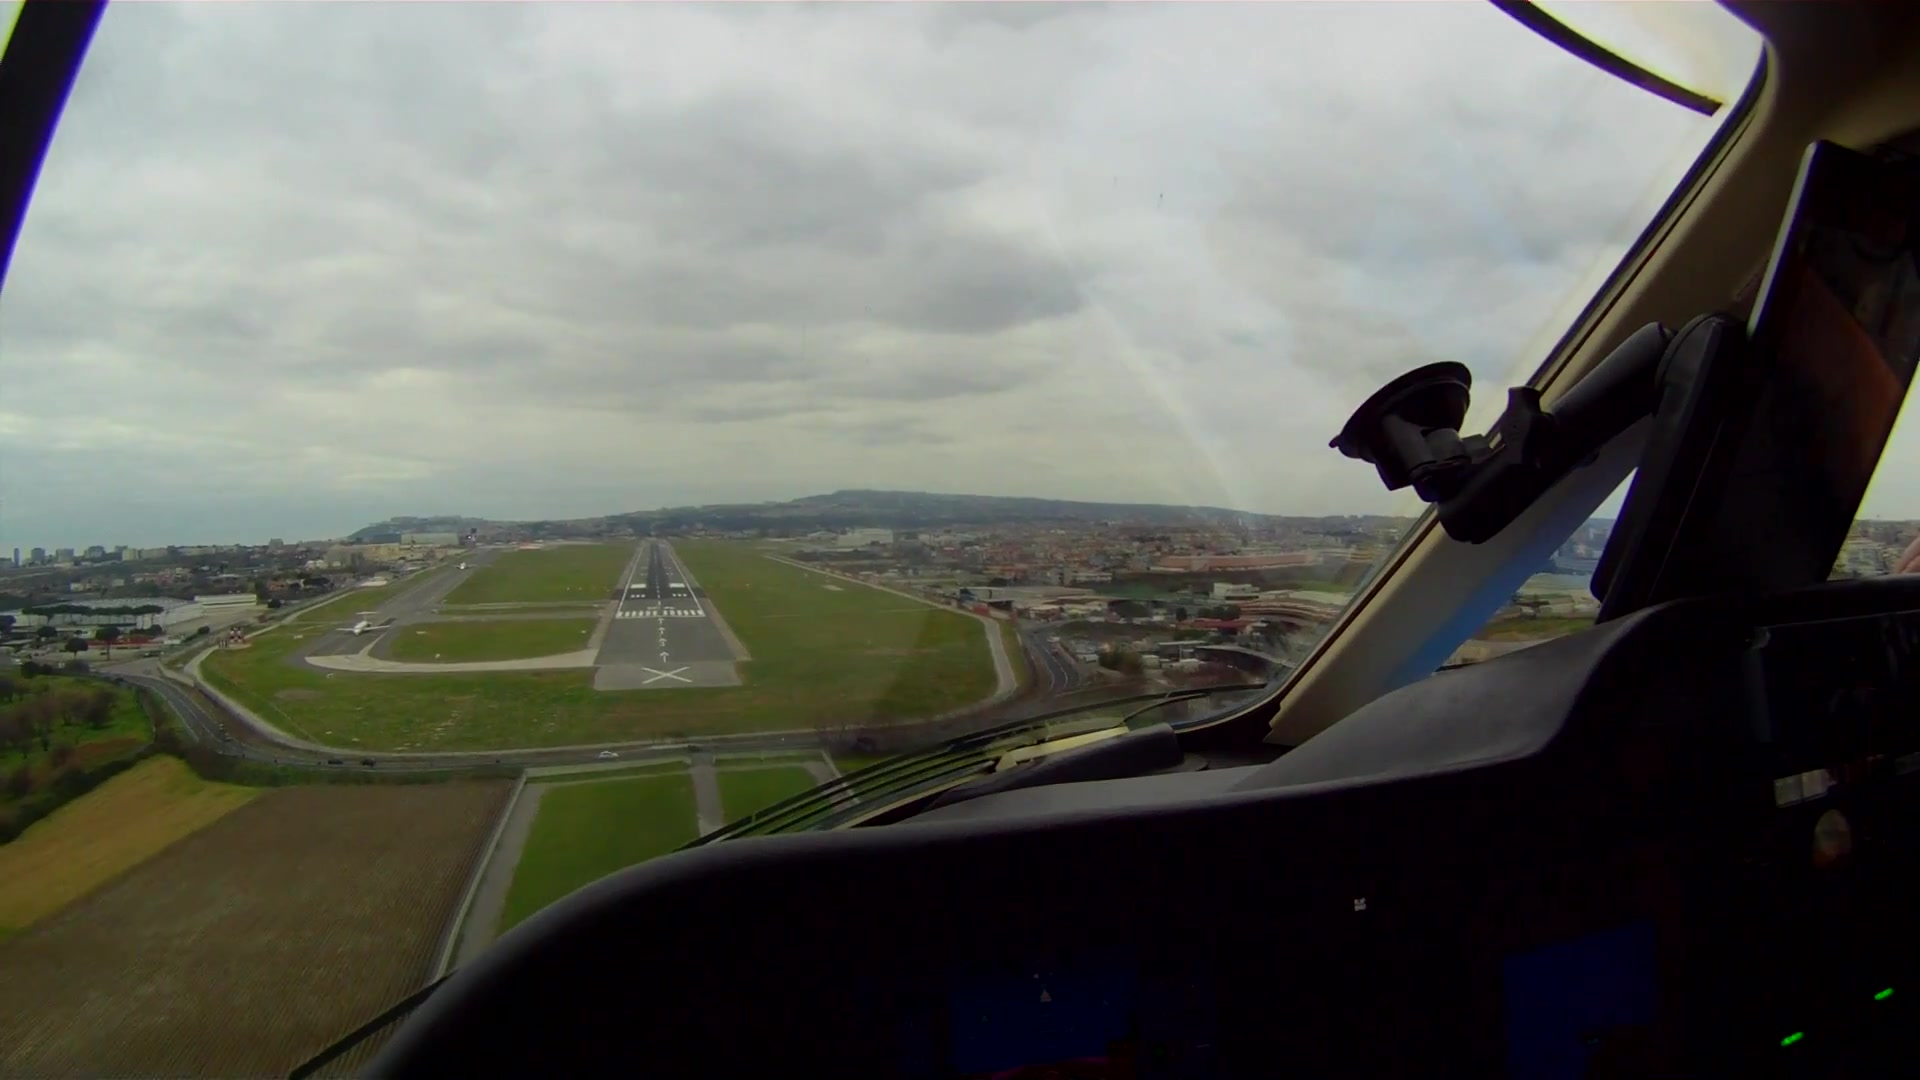entrance: (612, 607, 709, 624)
runway: (601, 537, 738, 665)
